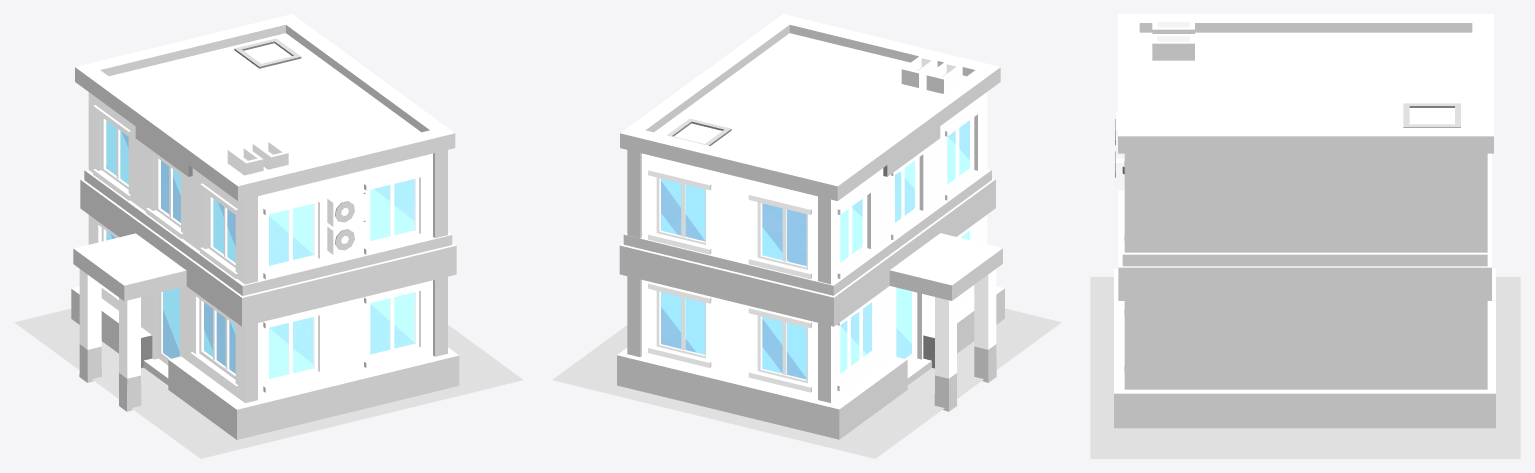
3 renders of one model, left to right at view 1: azimuth 30°, elevation 25°; view 2: azimuth 150°, elevation 25°; view 3: azimuth 270°, elevation 25°, orthographic. The views are drawn at different scales.
Visible parts, largest first — view 1: bank.003 (2), tile_for_home_1x1.006 (2); view 2: bank.003 (2), tile_for_home_1x1.006 (2); view 3: bank.003 (2), tile_for_home_1x1.006 (2).
Boxes of the visible parts, x1=… form: bank.003 (2): x1=71, y1=14, x2=459, y2=439; tile_for_home_1x1.006 (2): x1=14, y1=308, x2=523, y2=458; bank.003 (2): x1=617, y1=14, x2=1004, y2=439; tile_for_home_1x1.006 (2): x1=552, y1=308, x2=1061, y2=458; bank.003 (2): x1=1114, y1=14, x2=1495, y2=428; tile_for_home_1x1.006 (2): x1=1090, y1=277, x2=1520, y2=458.
Size of the model in its own units: 8.21 by 6.17 by 8.
Materials: 1 (1 with a texture image).
